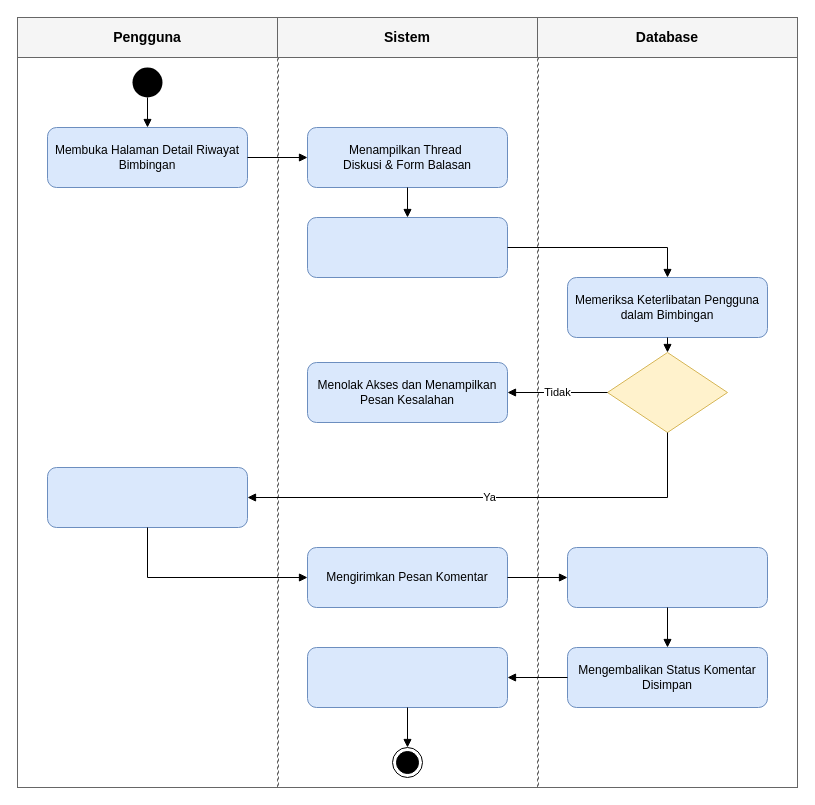
The diagram is 815 pixels wide and 805 high, and some of its shapes have lost their labels. Each missing label, with the centre of its shape:
"Memasukkan Komentar Balasan & Tekan Kirim" goes at point 147,497.
"Memperbarui Tampilan Thread Diskusi Komentar" goes at point 407,677.
"Mengirimkan Permintaan Pengecekan Akses" goes at point 407,247.
"Menyimpan Komentar Balasan ke Basis Data" goes at point 667,577.
"Pengguna Terlibat?" goes at point 667,392.
